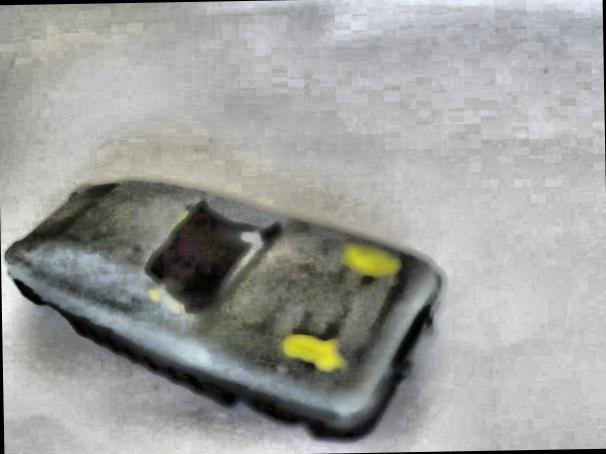normal_car: (0, 165, 450, 448)
